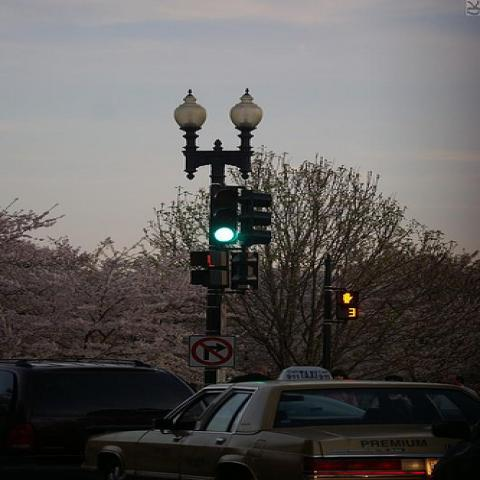car: (80, 367, 478, 479), (0, 358, 199, 479)
